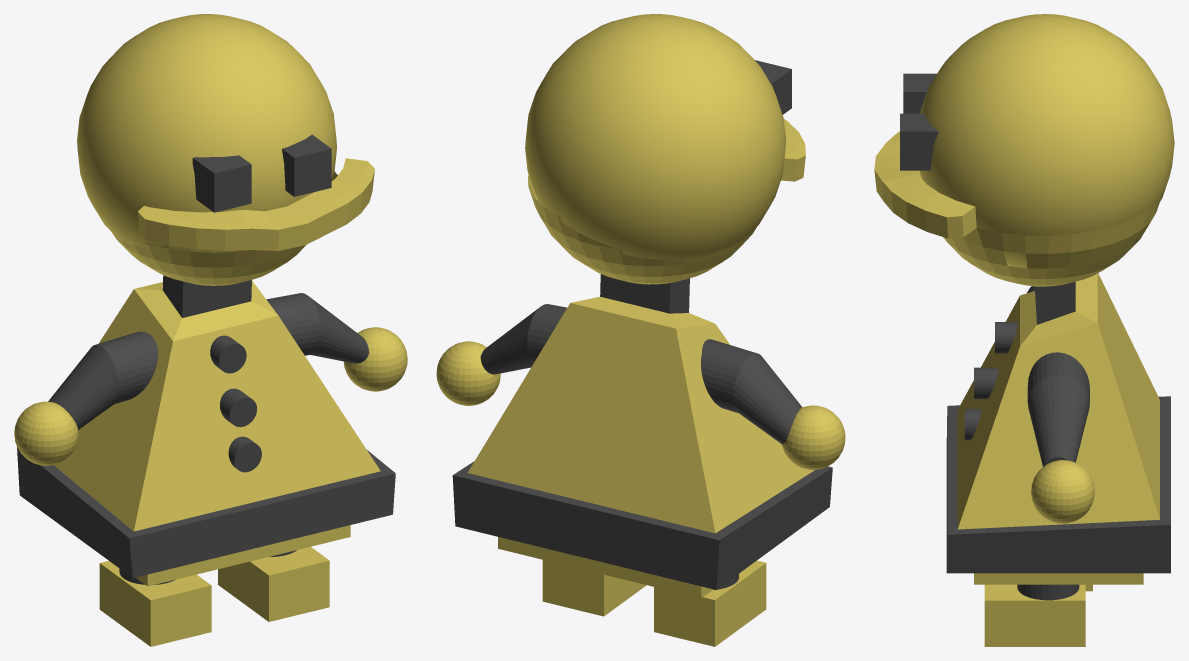
File: character.fbx
The picture shows the model from 3 angles, left to right: view 1: azimuth 30°, elevation 25°; view 2: azimuth 150°, elevation 25°; view 3: azimuth 270°, elevation 25°; orthographic projection.
Visible parts, largest first — view 1: Torso, Head, RghtArm, LeftArm, RIghtLeg, LeftLeg, Cube, Cube.001, Cylinder.001, Cylinder.002, Cylinder; view 2: Torso, Head, RghtArm, LeftArm, RIghtLeg, LeftLeg, Cube; view 3: Head, Torso, LeftArm, LeftLeg, Cube.001, Cube, Cylinder.001, Cylinder.002.
Boxes of the visible parts, x1,y1,x2,y2 form: Torso: (17,275,395,586); Head: (77,14,374,285); RghtArm: (14,331,157,465); LeftArm: (266,293,407,391); RIghtLeg: (99,561,211,646); LeftLeg: (218,546,329,621); Cube: (192,155,251,212); Cube.001: (282,134,331,196); Cylinder.001: (220,388,256,427); Cylinder.002: (210,335,246,373); Cylinder: (228,436,261,472); Torso: (452,274,832,598); Head: (525,14,805,284); RghtArm: (701,339,845,469); LeftArm: (436,304,566,405); RIghtLeg: (654,560,766,646); LeftLeg: (542,560,646,616); Cube: (755,60,791,114); Head: (874,14,1174,286); Torso: (946,273,1170,584); LeftArm: (1027,352,1094,523); LeftLeg: (984,584,1085,646); Cube.001: (900,113,938,170); Cube: (903,73,936,113); Cylinder.001: (974,367,998,398); Cylinder.002: (995,322,1017,353).
Size of the model in its own units: 9.22 by 13.07 by 6.17.
